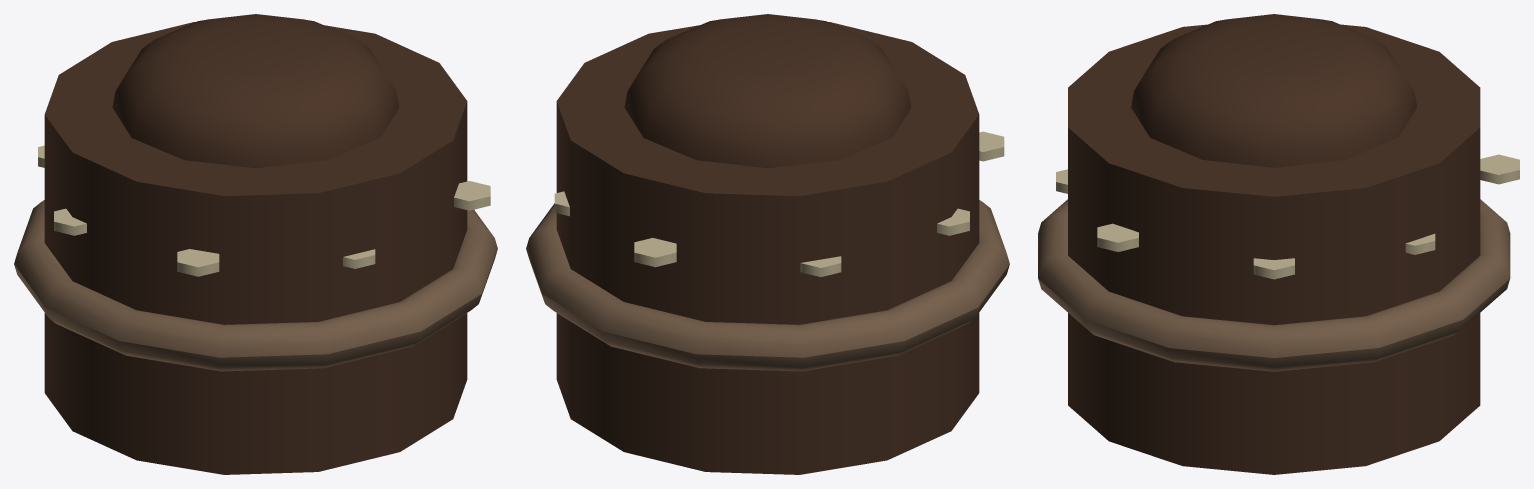
Rendered from leather_armor.obj.
3 views of the same model, side by side, from view 1: azimuth 30°, elevation 25°; view 2: azimuth 150°, elevation 25°; view 3: azimuth 270°, elevation 25° (orthographic).
Visible parts, largest first — view 1: leather_armor; view 2: leather_armor; view 3: leather_armor.
Boxes of the visible parts, x1=… form: leather_armor: x1=14, y1=14, x2=497, y2=474; leather_armor: x1=526, y1=14, x2=1009, y2=474; leather_armor: x1=1038, y1=14, x2=1519, y2=474.
Bounding box in the file's own units: 1.42 × 1.1 × 1.41.
